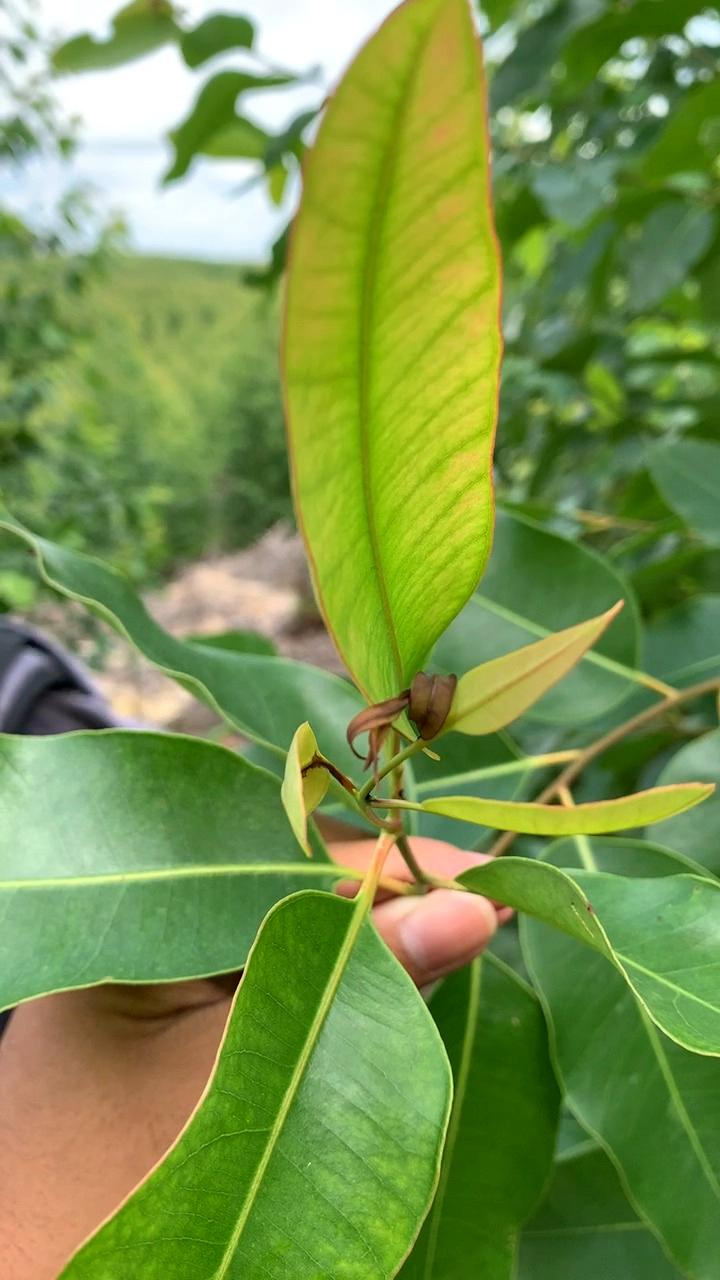Helopeltis-Withered Sprout: (345, 673, 458, 772)
